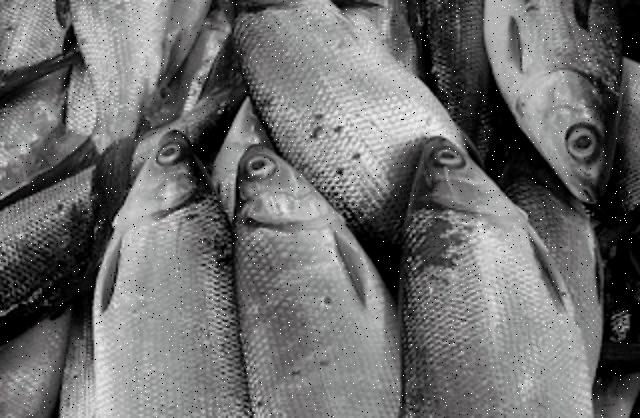Mulut: (572, 175, 608, 215)
Sirip Dada: (310, 216, 380, 318), (515, 221, 581, 322), (78, 228, 134, 322), (497, 9, 535, 95)
Sirip Ekor: (5, 119, 139, 255)
